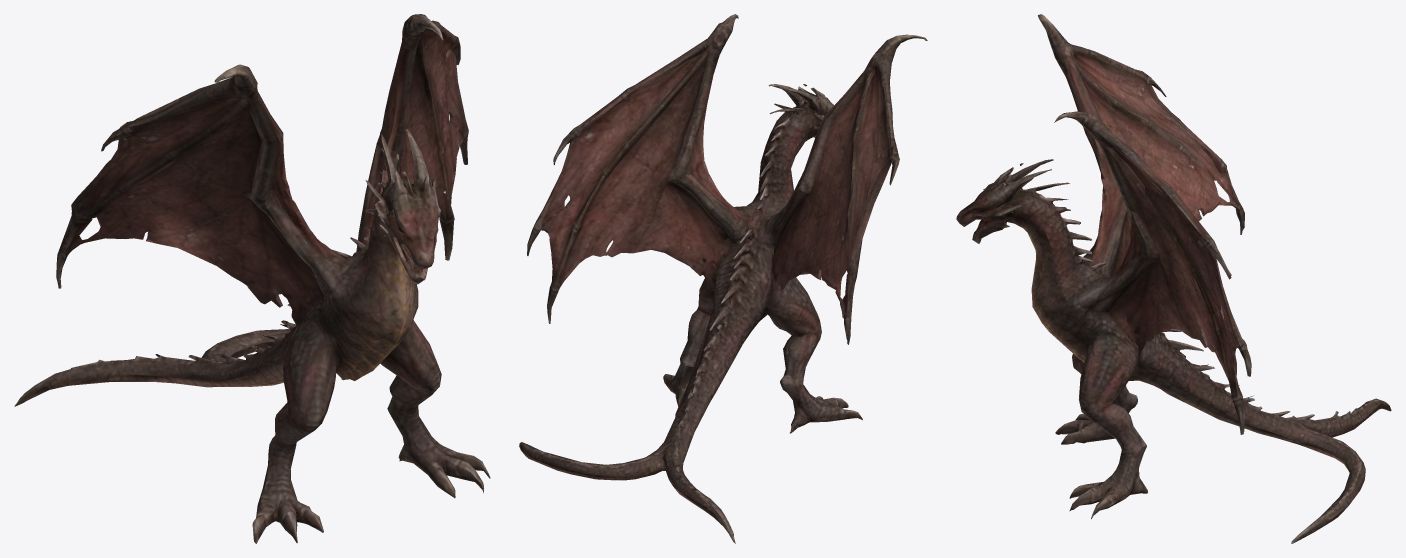
The model's file is mon_dragon.glb.
3 views of the same model, side by side, from view 1: azimuth 30°, elevation 25°; view 2: azimuth 150°, elevation 25°; view 3: azimuth 270°, elevation 25° (orthographic). The views are drawn at different scales.
Visible parts, largest first — view 1: mon_dragon; view 2: mon_dragon; view 3: mon_dragon.
Part boxes in pixels (left/top/right/bottom): mon_dragon: left=14, top=14, right=490, bottom=543; mon_dragon: left=519, top=14, right=927, bottom=543; mon_dragon: left=956, top=14, right=1391, bottom=543.
Size of the model in its own units: 1.64 by 1.89 by 1.89.
1 material, 1 textured.
